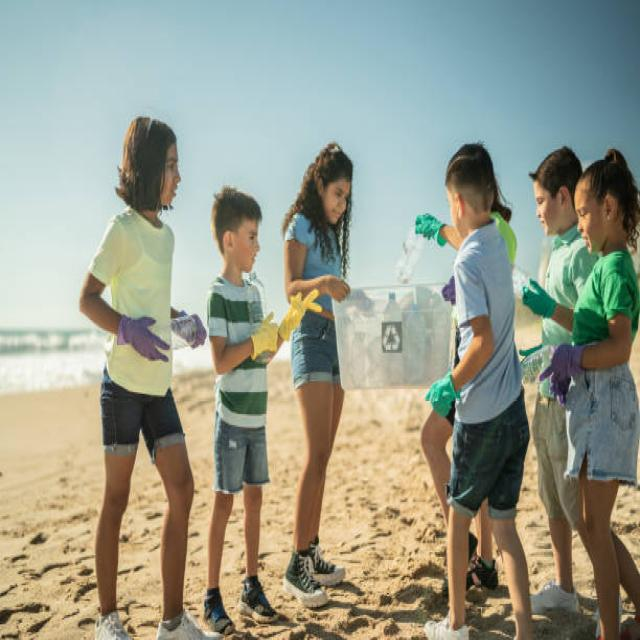plastic: (245, 276, 279, 372), (141, 314, 203, 353), (516, 341, 562, 382)
